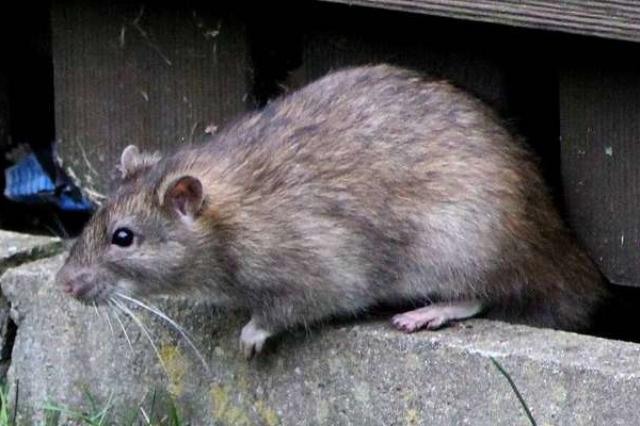rat: (48, 54, 564, 366)
